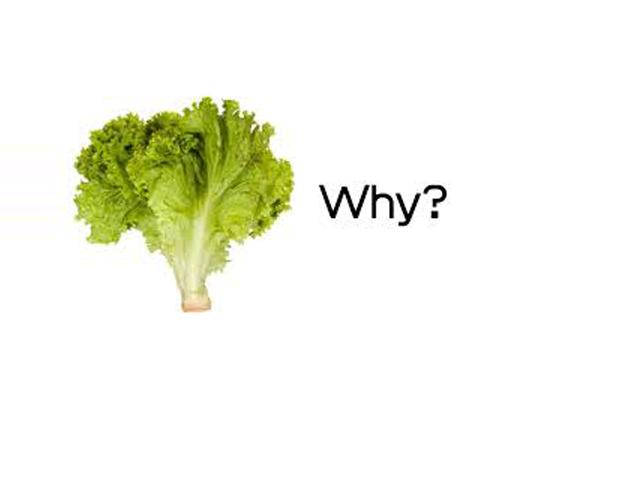lettuce: (66, 95, 313, 314)
